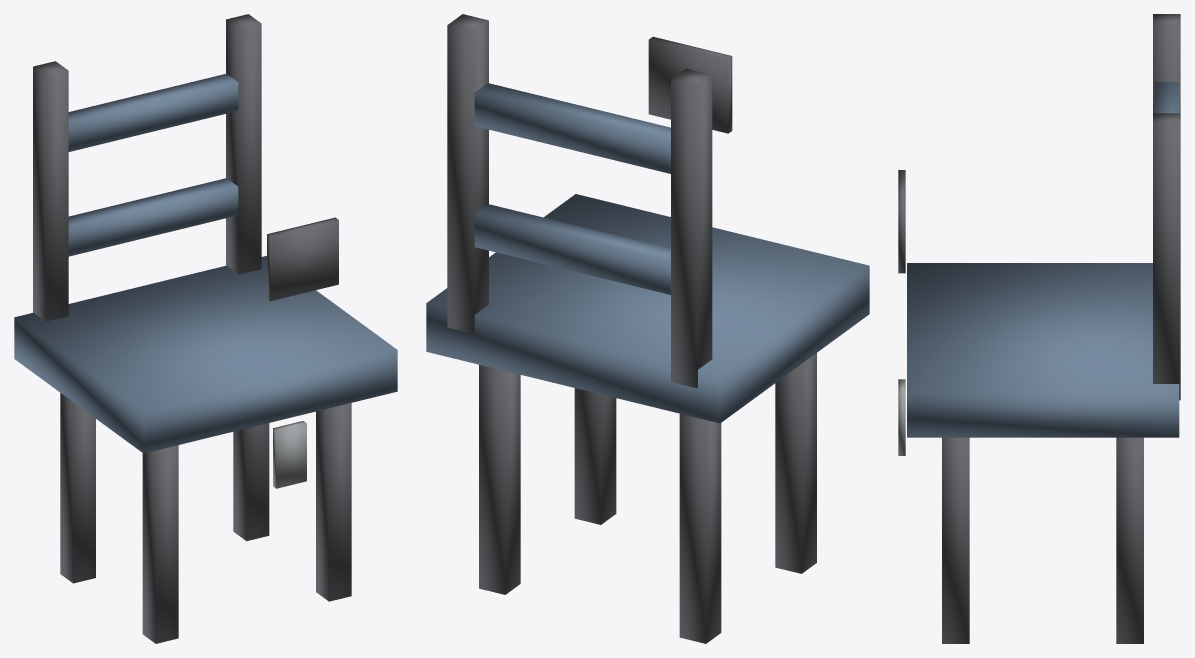
The model's file is interview_chair__weathered.glb.
3 renders of one model, left to right at view 1: azimuth 30°, elevation 25°; view 2: azimuth 150°, elevation 25°; view 3: azimuth 270°, elevation 25°, orthographic. The views are drawn at different scales.
Parts seen in each view (by area): view 1: world; view 2: world; view 3: world.
Boxes of the visible parts, <box> form: world: <box>14,14,397,643</box>; world: <box>426,14,869,643</box>; world: <box>898,14,1180,643</box>.
Size of the model in its own units: 0.5037 by 0.942 by 0.4602.
